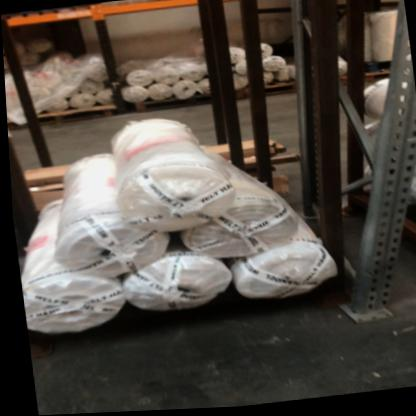vertical_damage: (334, 285, 405, 337)
